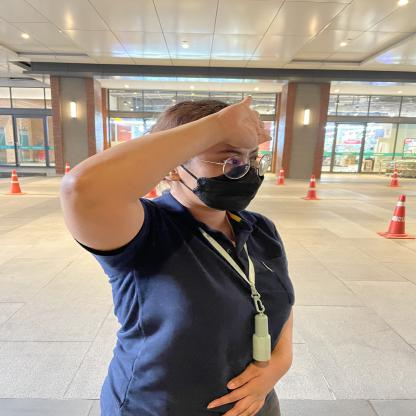Sick: (134, 76, 299, 165)
